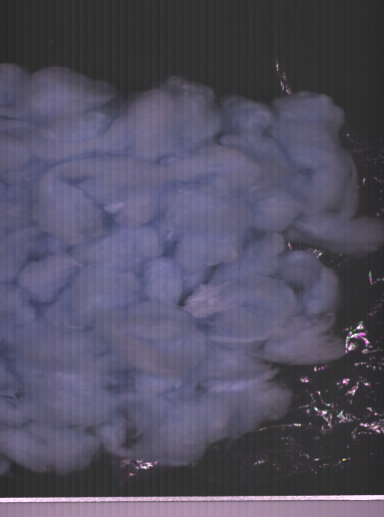Cotton: (193, 153, 271, 414), (82, 126, 185, 236), (13, 89, 72, 243), (27, 332, 86, 446), (93, 244, 140, 329), (285, 111, 321, 221), (134, 336, 185, 409), (150, 246, 183, 329), (273, 296, 312, 350), (30, 263, 64, 289), (284, 255, 316, 275), (71, 297, 86, 329)
